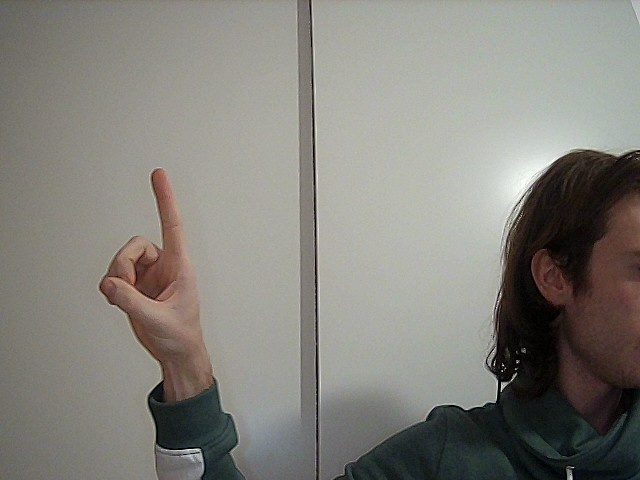d: (67, 159, 243, 378)
